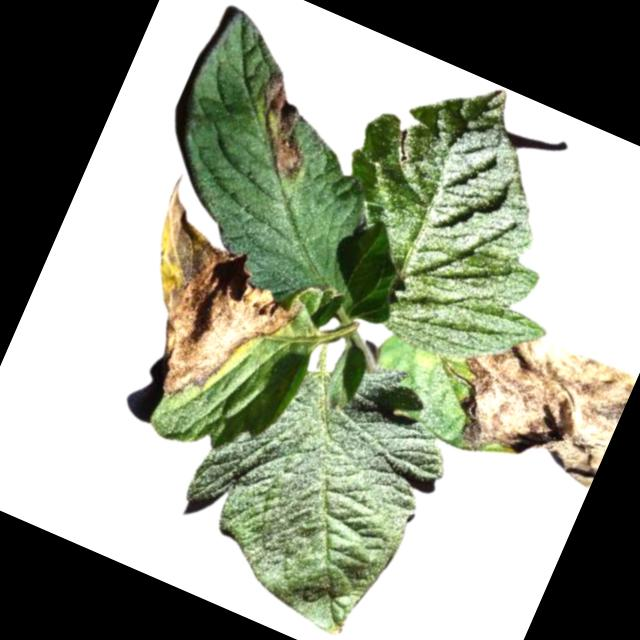Late_blight: (97, 175, 332, 432), (434, 308, 639, 502), (236, 70, 331, 180)
healthy: (290, 42, 629, 390), (155, 310, 474, 640)
